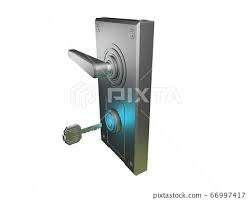key: (61, 121, 104, 147)
